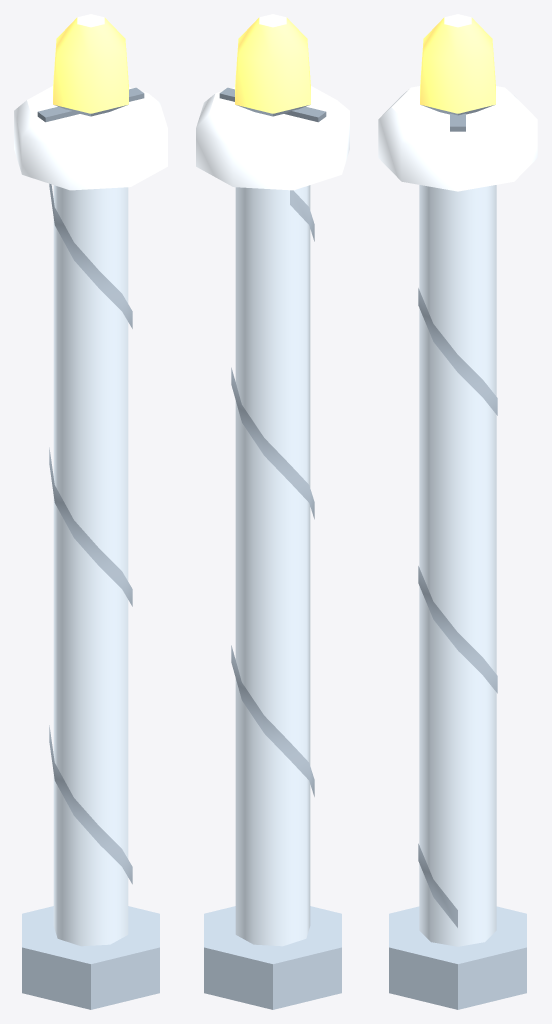
Rendered from screw-post.glb.
3 views of the same model, side by side, from view 1: azimuth 30°, elevation 25°; view 2: azimuth 150°, elevation 25°; view 3: azimuth 270°, elevation 25° (orthographic).
Parts seen in each view (by area): view 1: screw-post; view 2: screw-post; view 3: screw-post.
Part boxes in pixels (x1,y1,x2,y2): screw-post: (14,14,167,1009); screw-post: (196,14,349,1009); screw-post: (378,14,537,1009).
Size of the model in its own units: 1.2 by 7.94 by 1.2.
